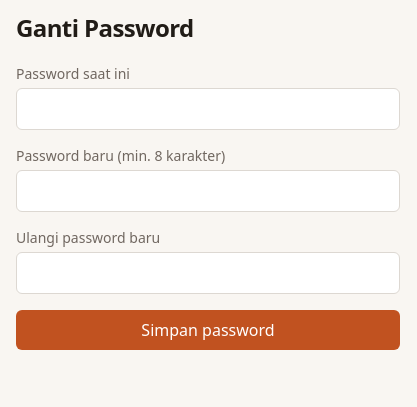
Scenario: ChangePasswordView › error jaringan tanpa errors field → pakai message umum
Type "x" into the password field labelled "Password saat ini" at (208, 109), box [16,88,400,130]
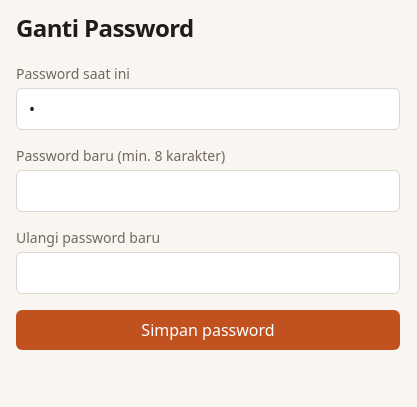
Type "password-baru-9" into the password field labelled "Password baru (min. 8 karakter)" at (208, 191), box [16,170,400,212]
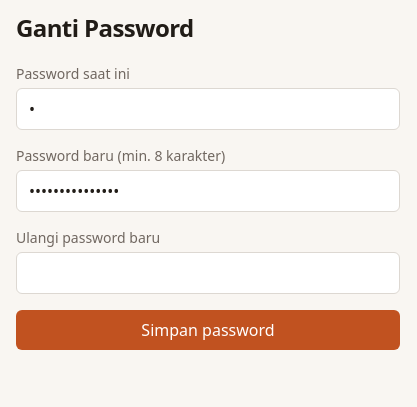
Type "password-baru-9" into the password field labelled "Ulangi password baru" at (208, 273), box [16,252,400,294]
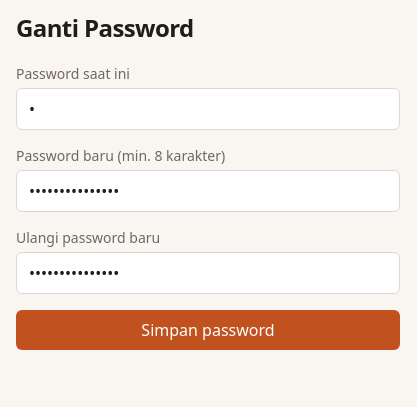
Submit the form
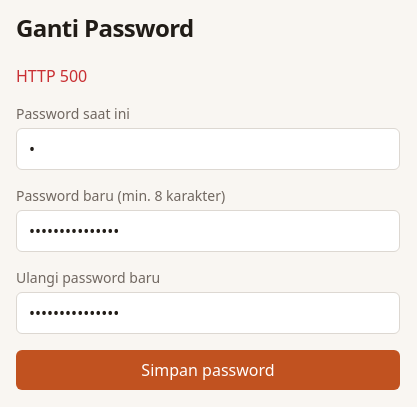
Expected: the message with test id "change-error" reads "HTTP 500", [16,65,87,87]
